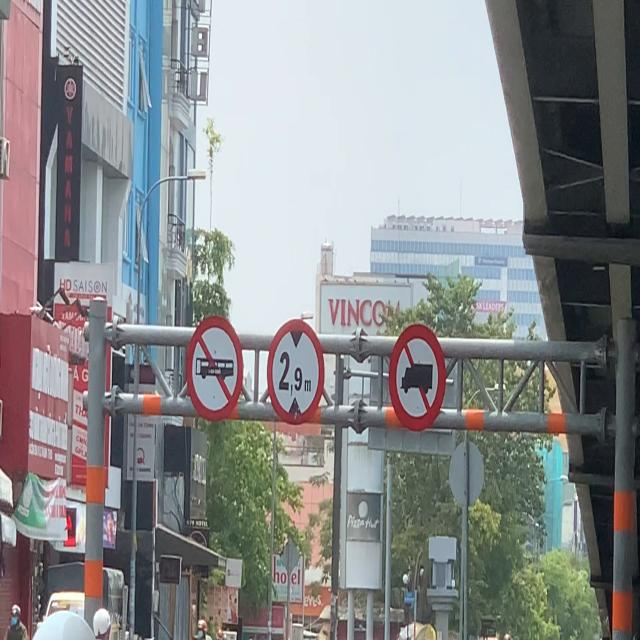Cam con lai: (388, 323, 447, 433), (186, 316, 244, 424)
Chieu cao toi da: (266, 319, 324, 426)
